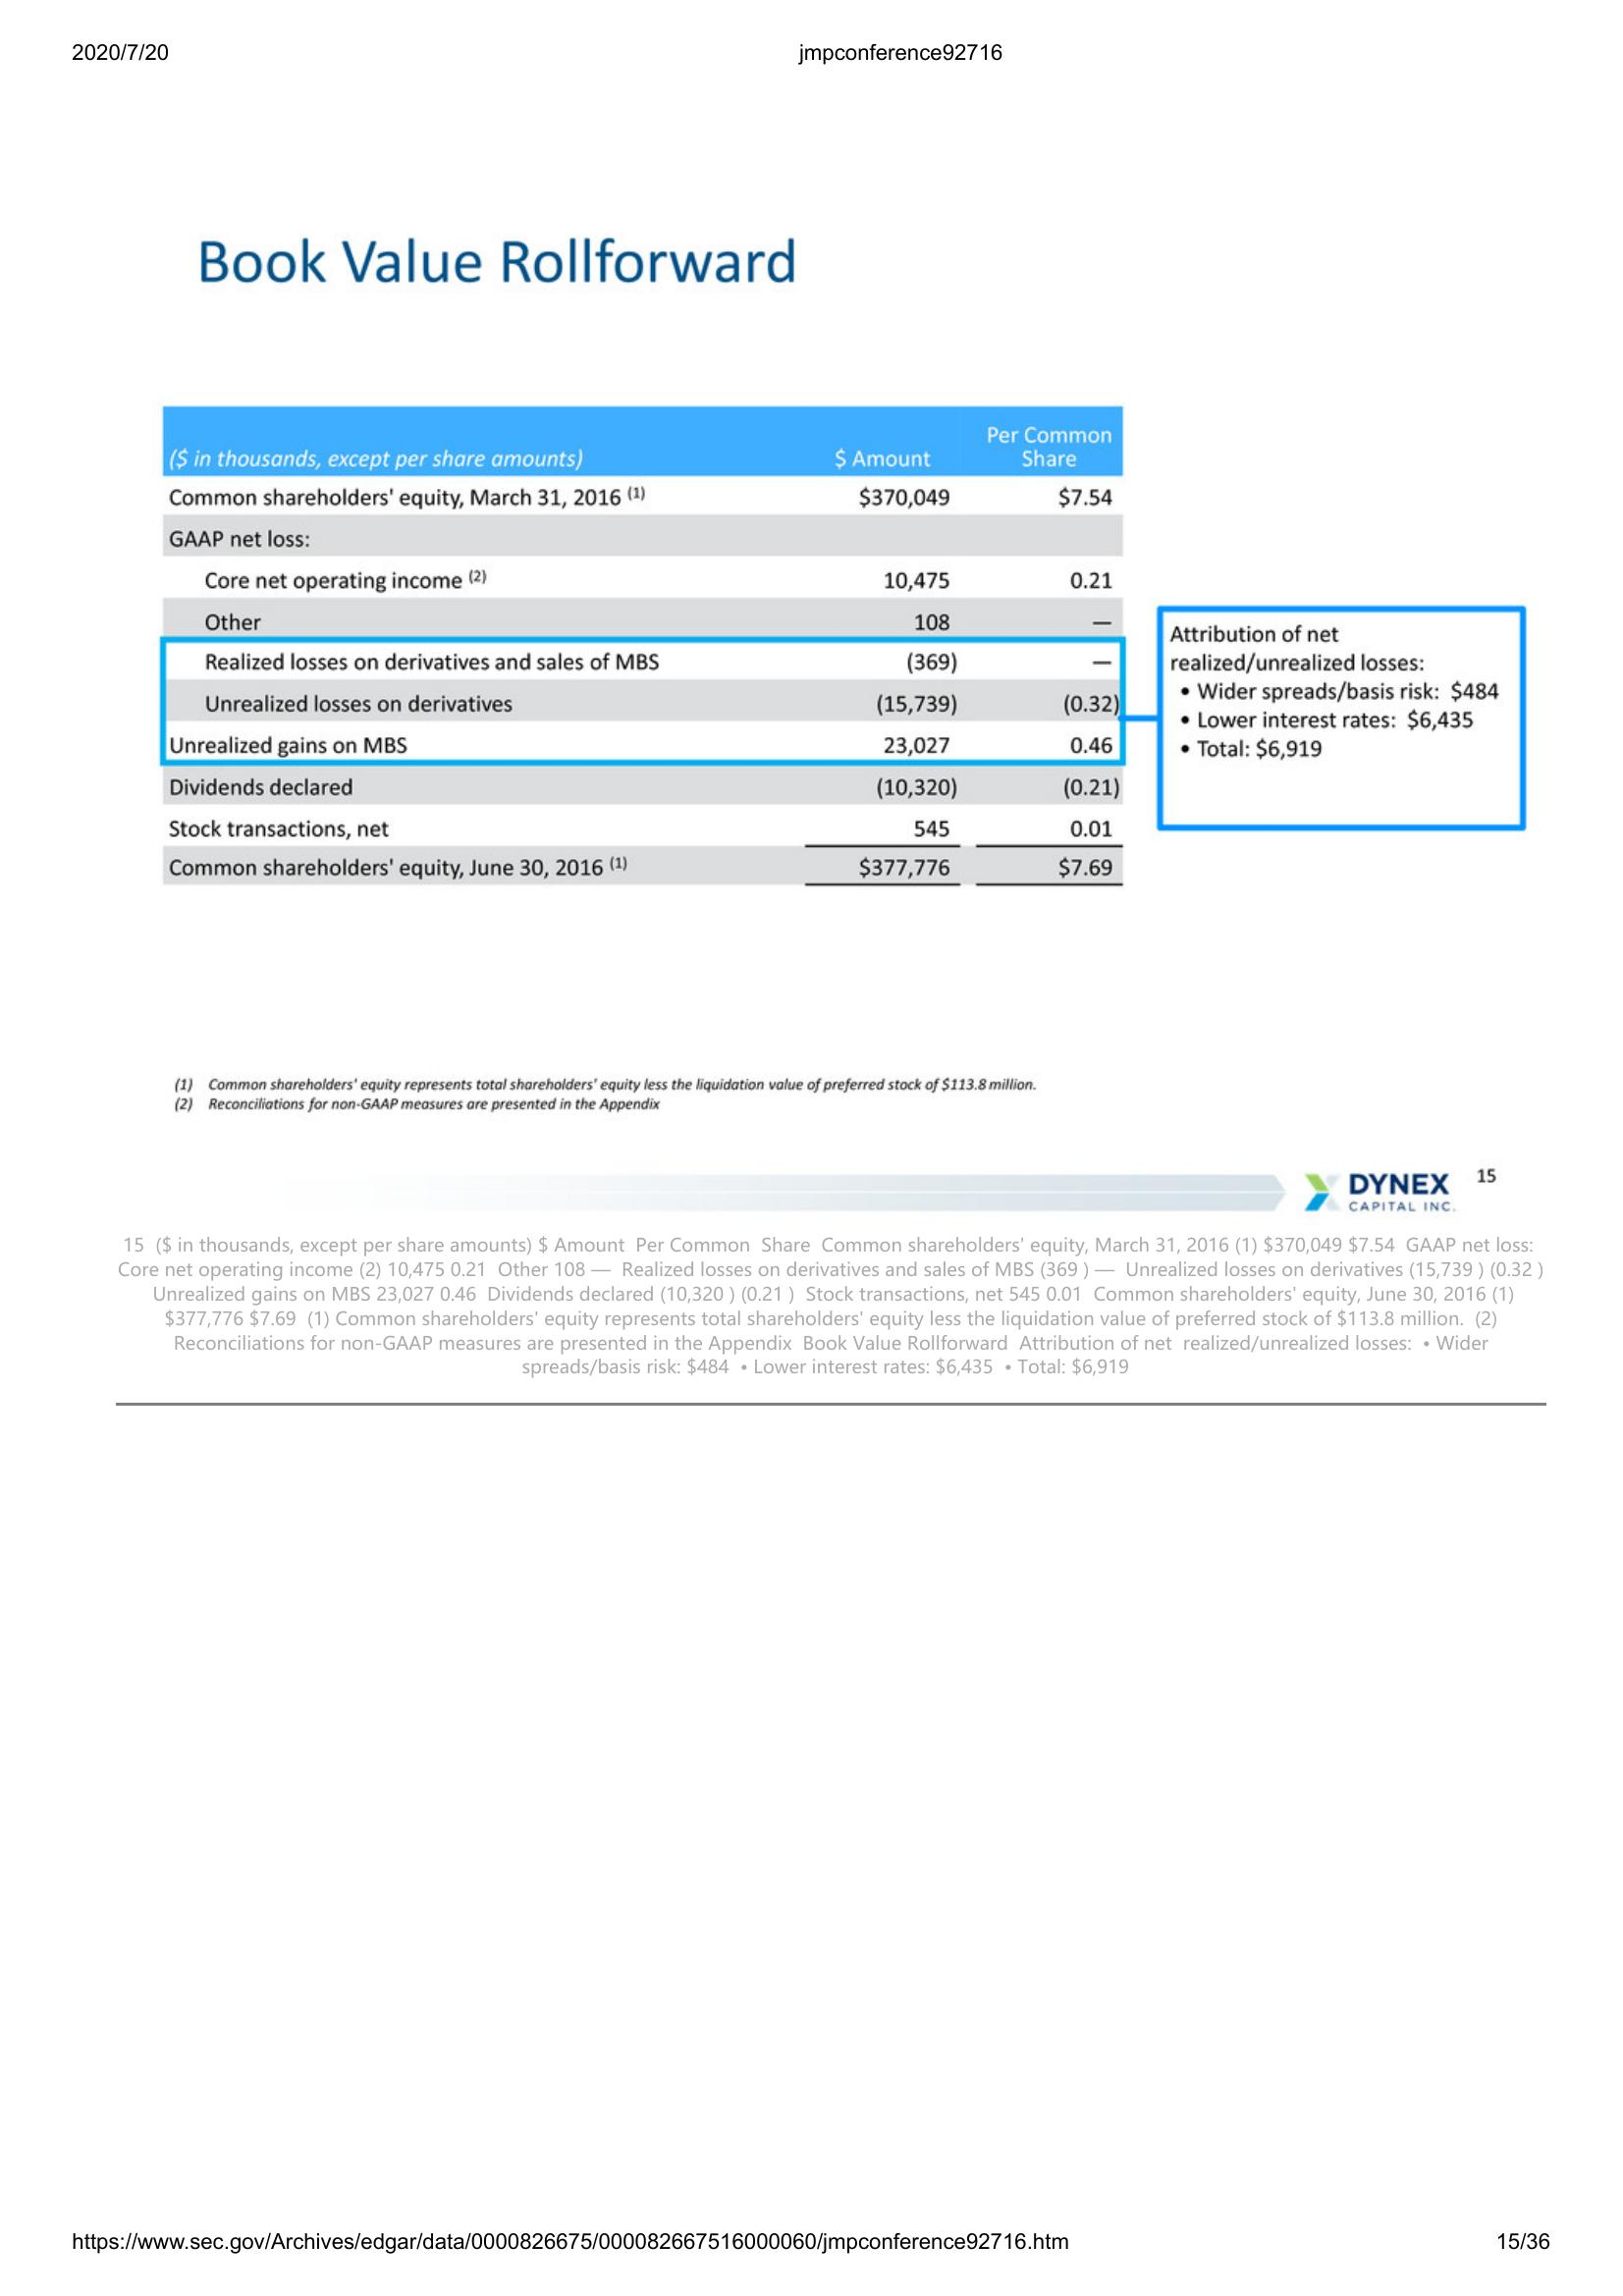table: (155, 400, 1129, 893)
